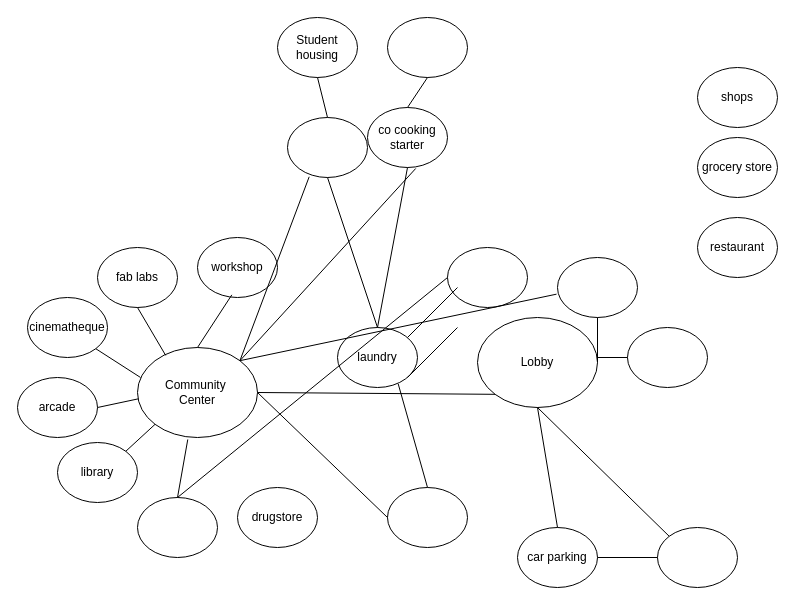
The diagram is 795 pixels wide and 605 high, and some of its shapes have lost their labels. Each missing label, with the centre of its shape:
"Assisted living" goes at (x=427, y=517).
"bike parking" goes at (x=697, y=557).
"co cooking student" goes at (x=327, y=147).
"co working" goes at (x=487, y=277).
"communal garden" goes at (x=177, y=527).
"gym" goes at (x=667, y=357).
"starter housing" goes at (x=427, y=47).
"startups" goes at (x=597, y=287).
